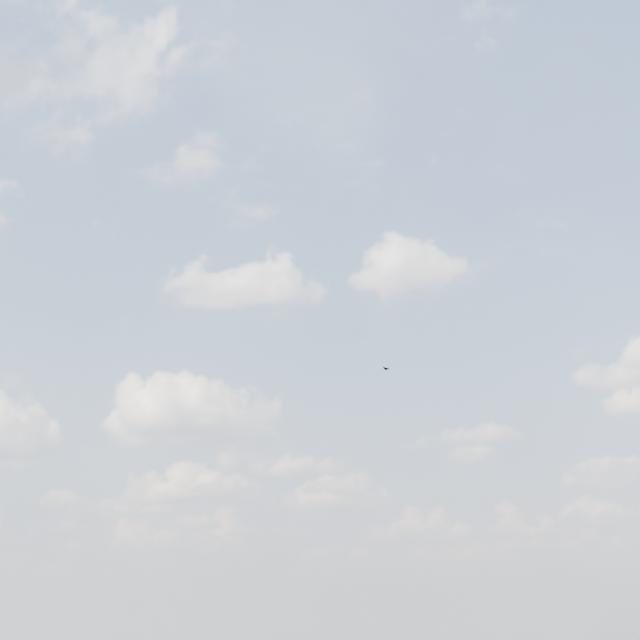Airaplan: (382, 366, 389, 370)
